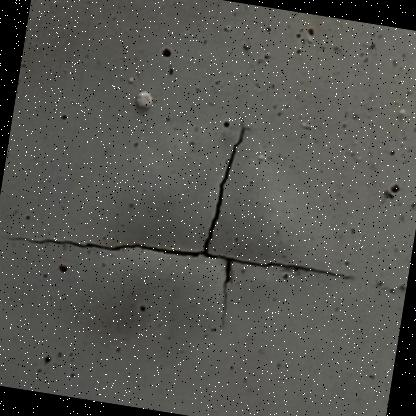Crack: (0, 188, 365, 363), (180, 115, 263, 265), (0, 348, 8, 386)
